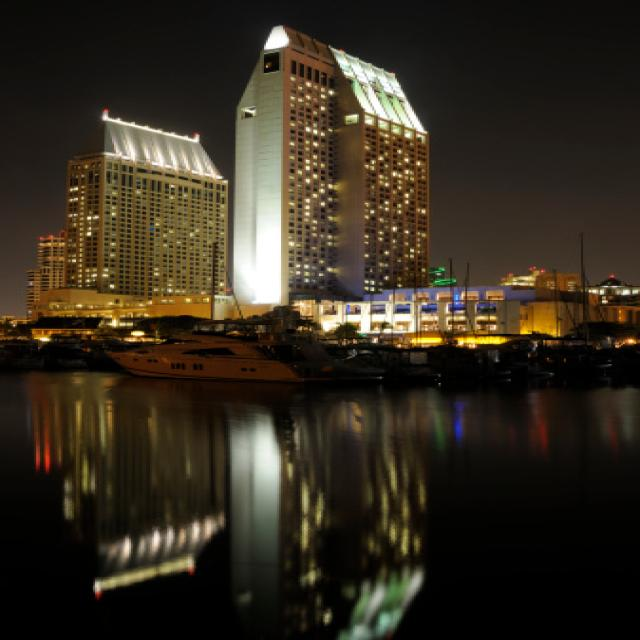Boat: (91, 319, 410, 425)
